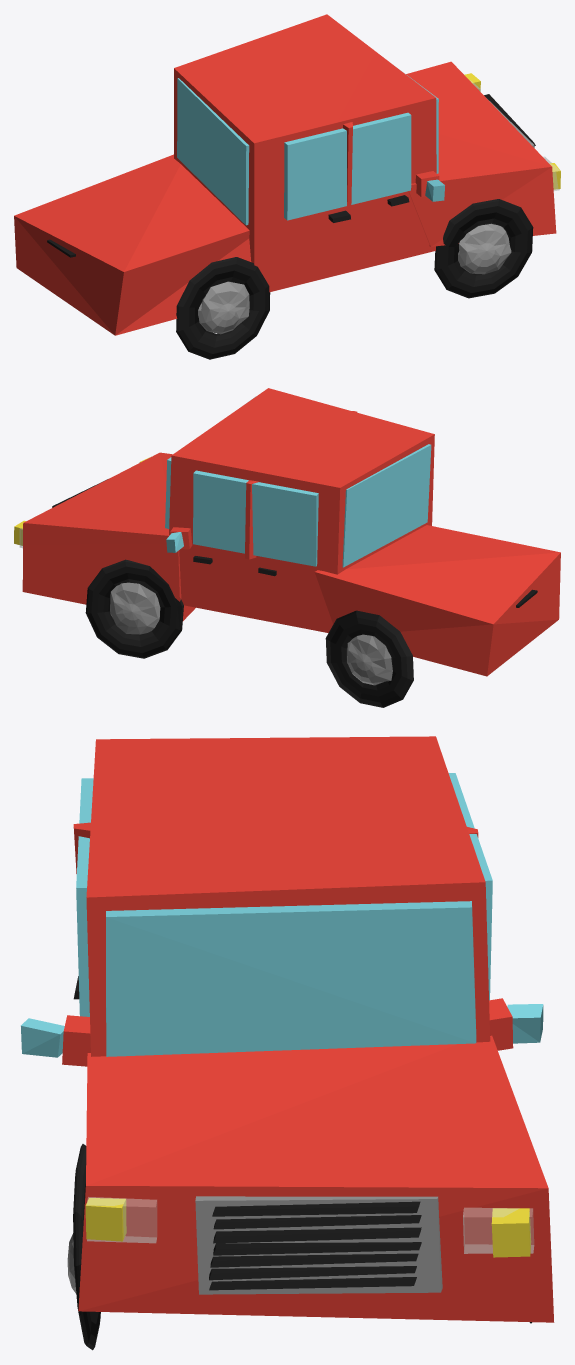
Rendered from regularOldCar.dae.
The picture shows the model from 3 angles, top to bottom: view 1: azimuth 30°, elevation 25°; view 2: azimuth 150°, elevation 25°; view 3: azimuth 270°, elevation 25°; orthographic projection. The views are drawn at different scales.
Visible parts, largest first — view 1: car; view 2: car; view 3: car.
Part boxes in pixels (box(x1,y1,x2,y2)): car: box(14, 14, 560, 359); car: box(14, 388, 560, 707); car: box(21, 736, 554, 1350).
Bounding box in the file's own units: 1.98 × 1.01 × 0.8741.
